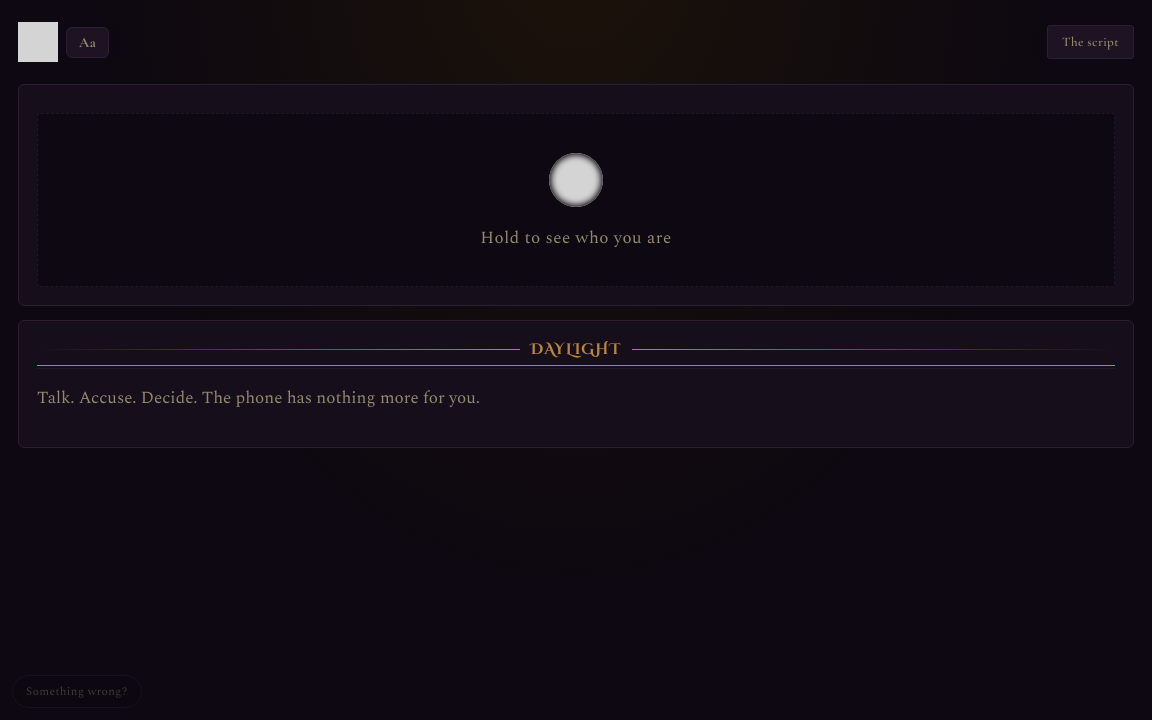
Test: App › opens and closes the script overlay from the topbar button
Click the button "The script" at (1091,42), box [1047,25,1134,59]
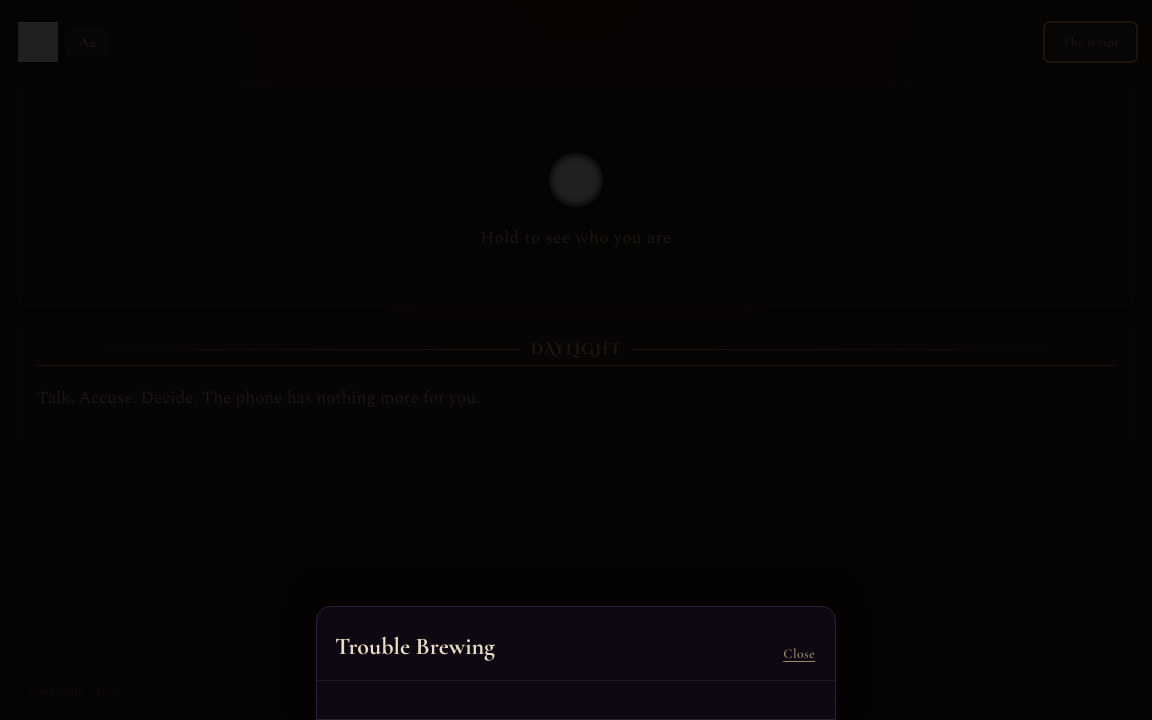
Now the heading "Trouble Brewing" is shown, box [335,628,495,664]
Click the button "Close" at (799,654), box [781,639,817,668]
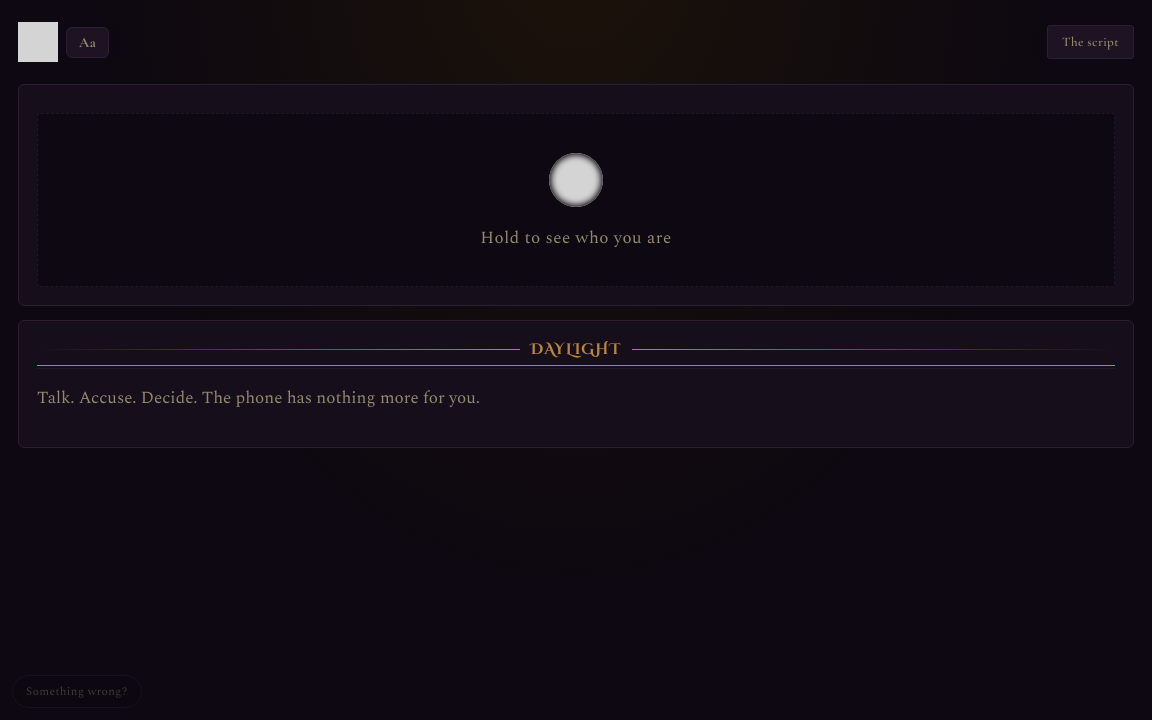
Now the heading "Trouble Brewing" is gone
